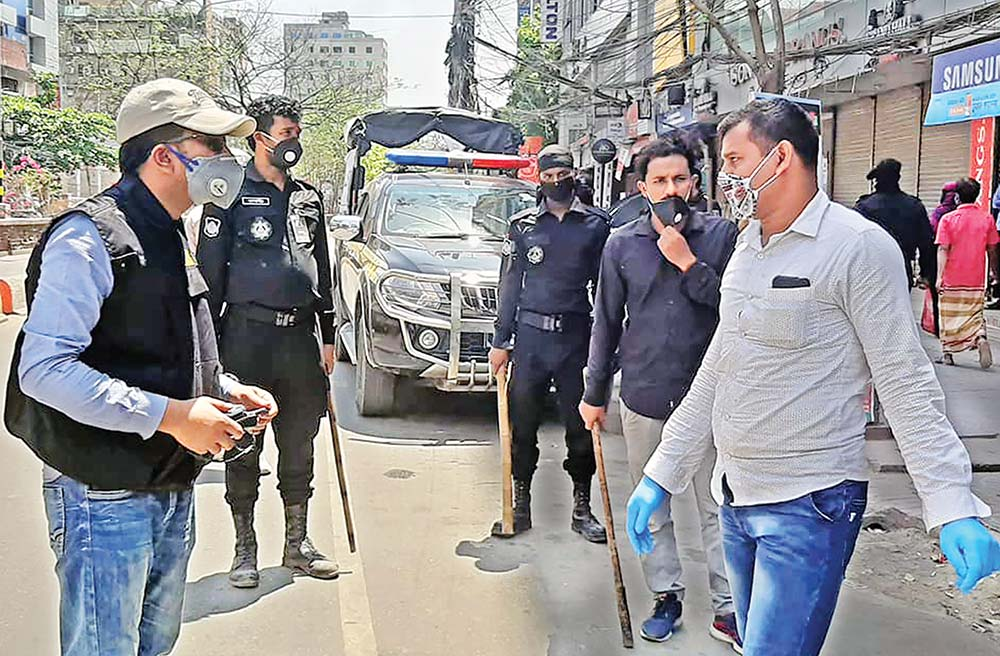policecar: (333, 104, 538, 419)
